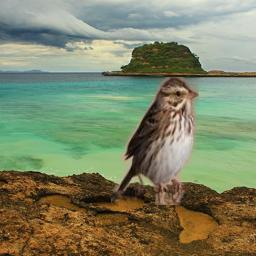Sparrow: (111, 77, 199, 205)
